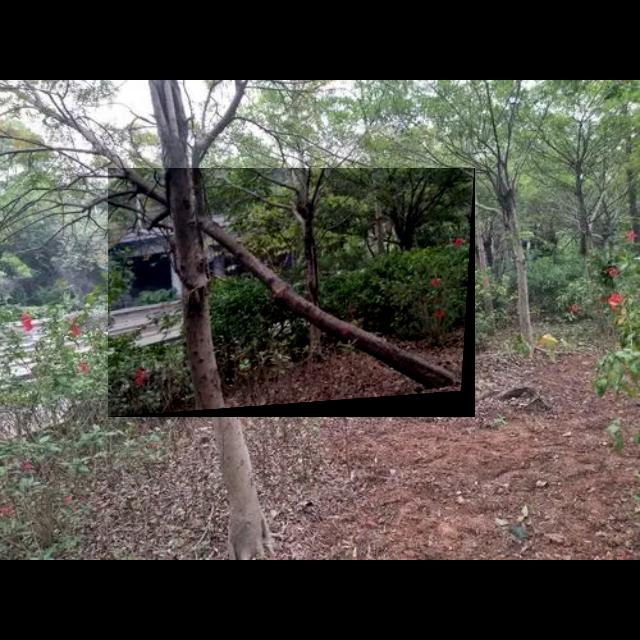Fallen Tree: (108, 168, 476, 418)
